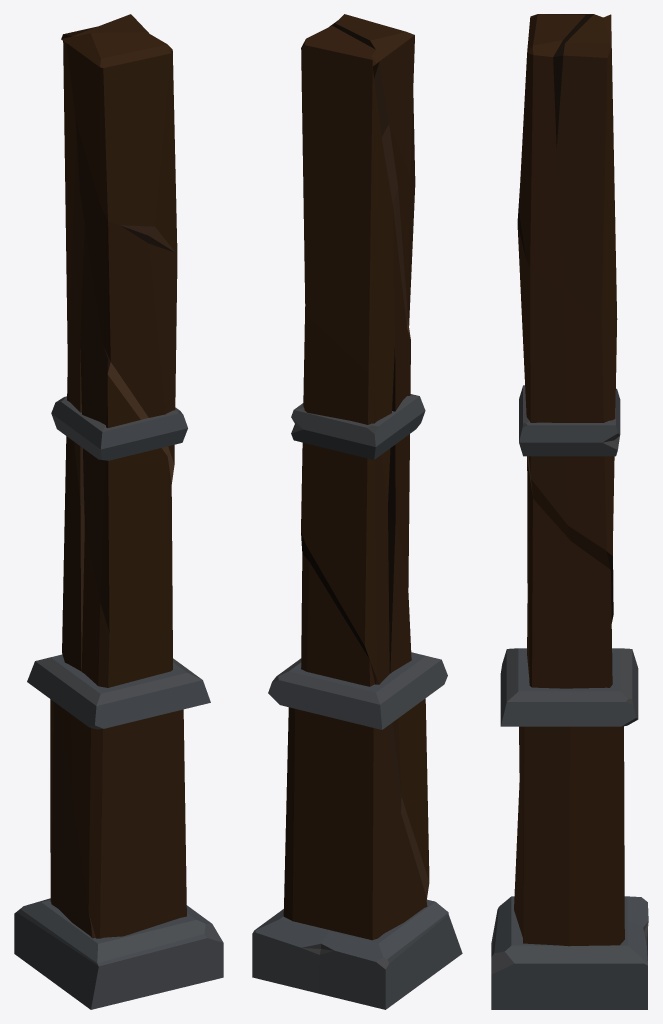
Rendered from Column_Vertical_Wood_Large.glb.
The picture shows the model from 3 angles, left to right: view 1: azimuth 30°, elevation 25°; view 2: azimuth 150°, elevation 25°; view 3: azimuth 270°, elevation 25°; orthographic projection. The views are drawn at different scales.
Parts seen in each view (by area): view 1: Column_Vertical_Wood_Large; view 2: Column_Vertical_Wood_Large; view 3: Column_Vertical_Wood_Large.
Part boxes in pixels (x1=…): Column_Vertical_Wood_Large: x1=14, y1=14, x2=223, y2=1009; Column_Vertical_Wood_Large: x1=252, y1=14, x2=462, y2=1009; Column_Vertical_Wood_Large: x1=491, y1=14, x2=648, y2=1009.
Size of what is drawn, in the model's own units: 0.4516 by 3.03 by 0.454.
Materials: 1 (1 with a texture image).
